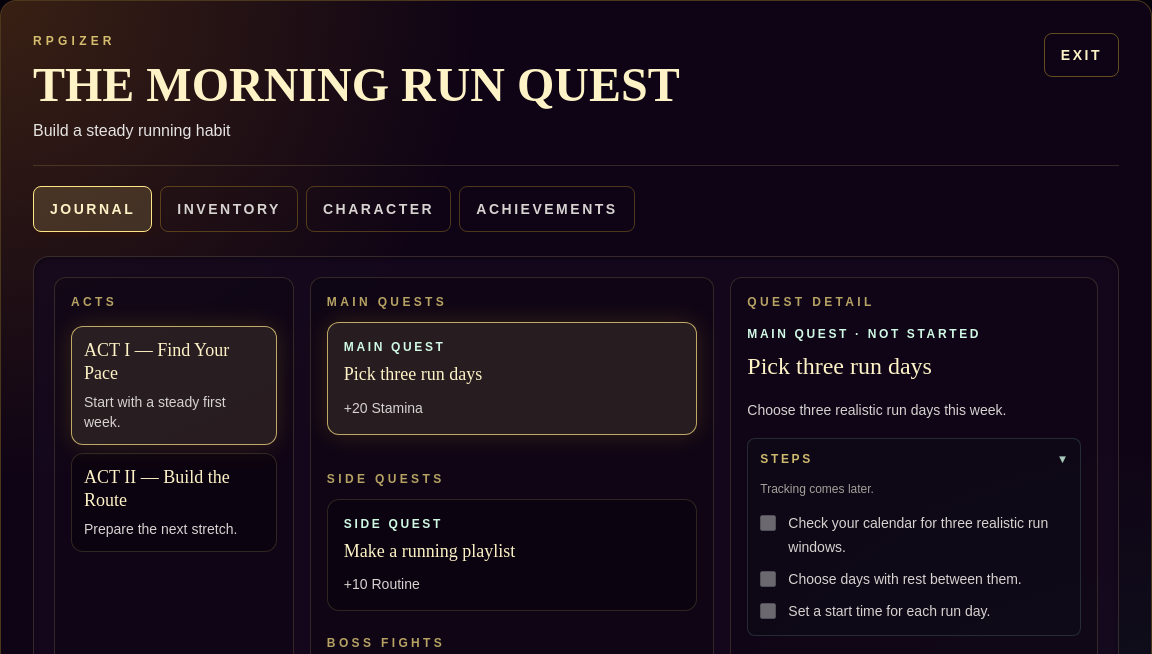
AdventureDetailMenuScreen › renders Inventory empty state without stale selected item details
Click the tab "Inventory". click: (229, 209)
box: 160,186 -> 298,232
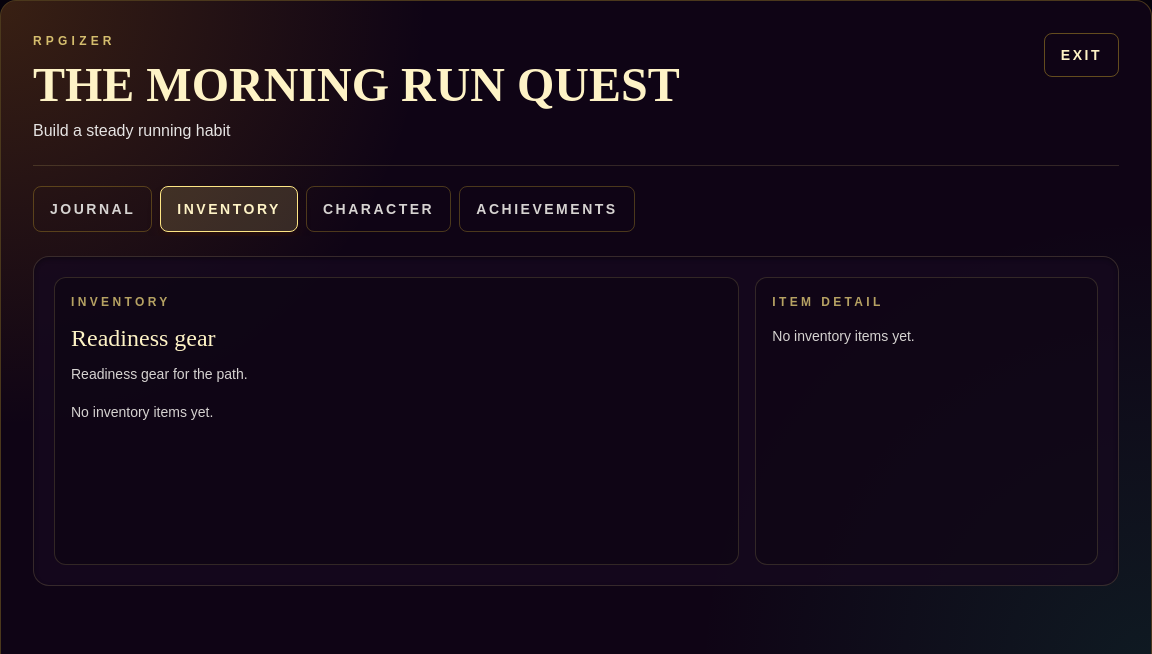
Expected: the panel shows "No inventory items yet.", 71,404 -> 213,420
